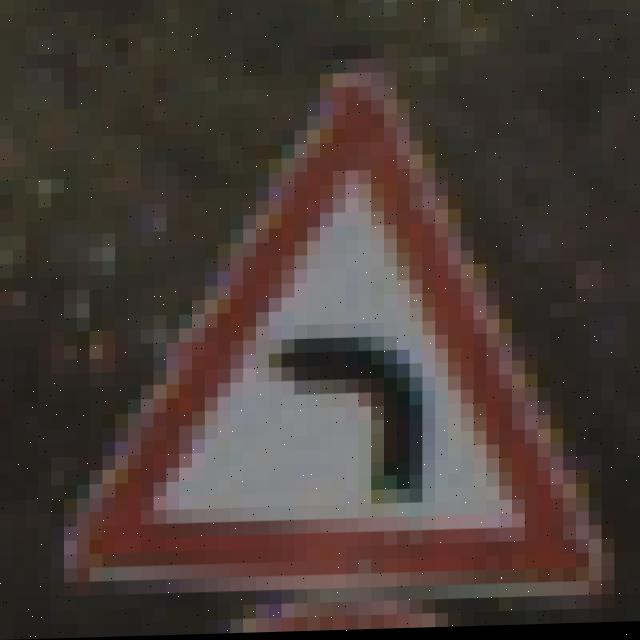left_turn: (132, 140, 617, 599)
